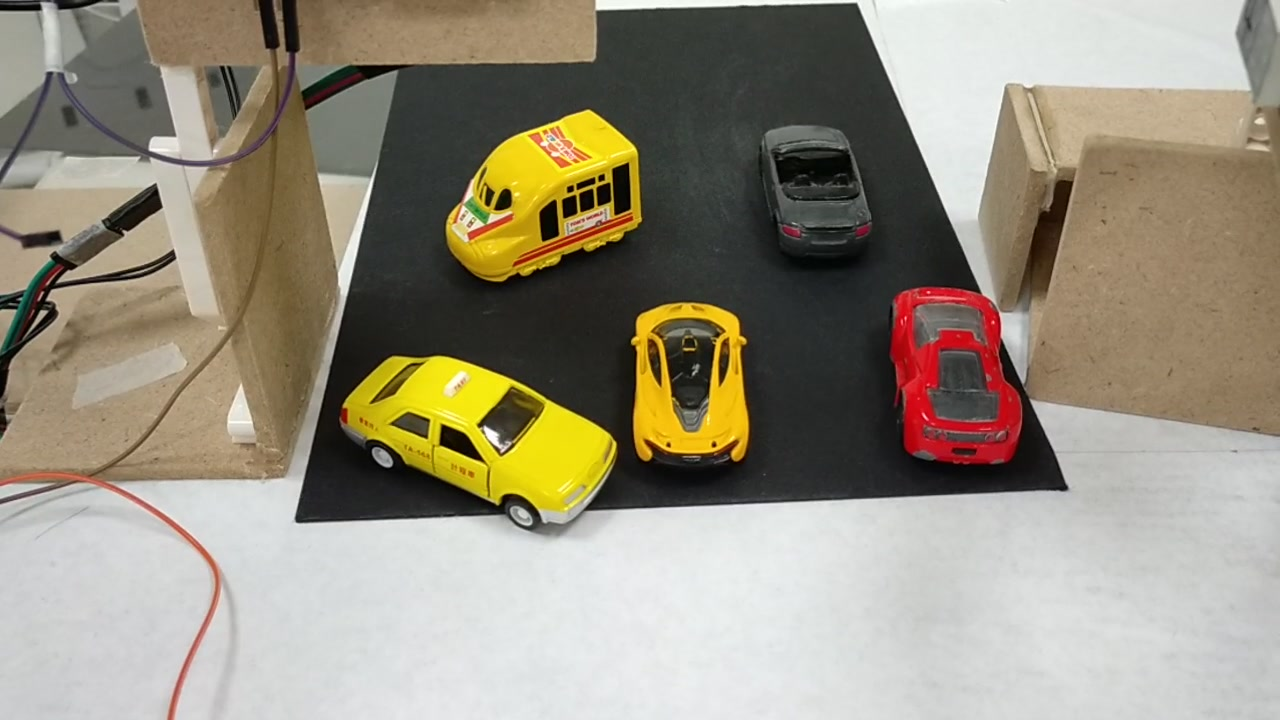car: (336, 349, 614, 534), (886, 281, 1024, 477), (630, 302, 751, 474), (751, 115, 871, 260)
